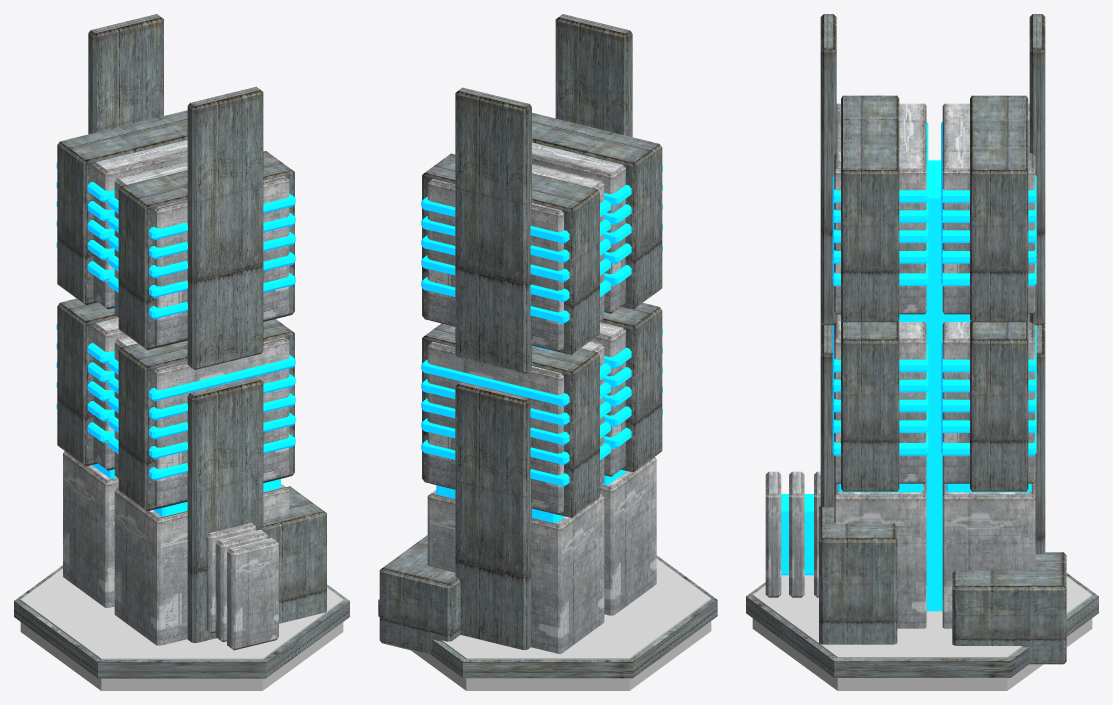
The model's file is residential03.fbx.
3 views of the same model, side by side, from view 1: azimuth 30°, elevation 25°; view 2: azimuth 150°, elevation 25°; view 3: azimuth 270°, elevation 25° (orthographic). The views are drawn at different scales.
Visible parts, largest first — view 1: residential03; view 2: residential03; view 3: residential03.
Part boxes in pixels (box(x1,y1,x2,y2)): residential03: box(14, 14, 349, 690); residential03: box(378, 14, 717, 690); residential03: box(746, 14, 1098, 690).
Size of the model in its own units: 380 by 820 by 439.
Materials: 5 (3 with a texture image).
